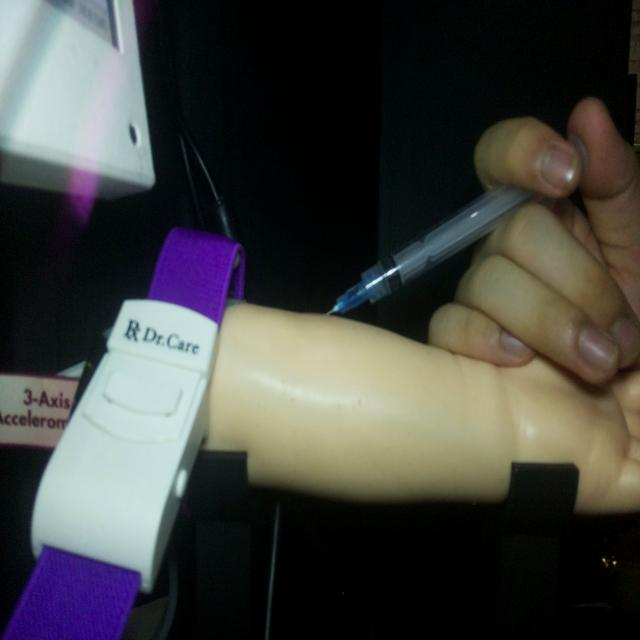26 degrees: (325, 133, 588, 320)
